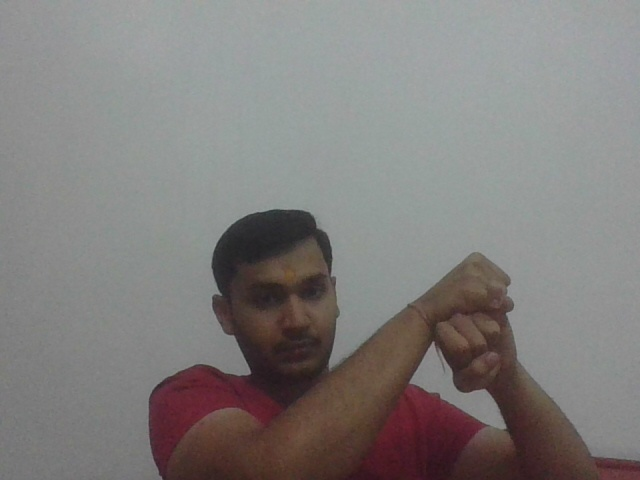S: (428, 249, 530, 396)
